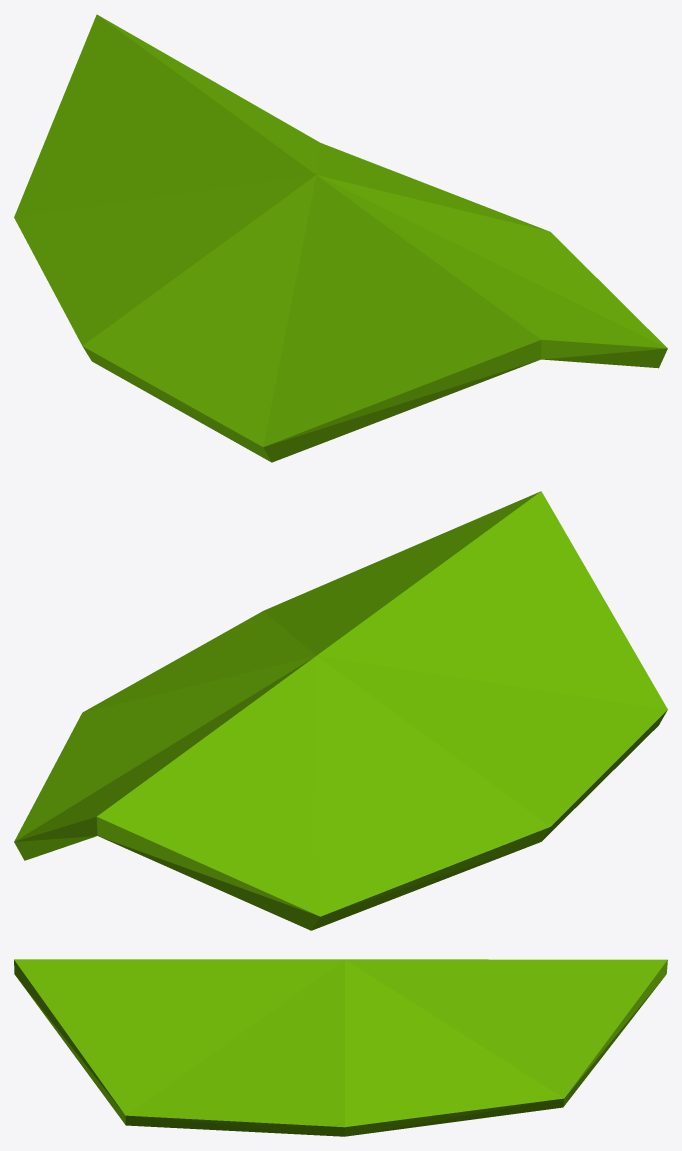
The model's file is Leaf_1.fbx.
3 renders of one model, top to bottom at view 1: azimuth 30°, elevation 25°; view 2: azimuth 150°, elevation 25°; view 3: azimuth 270°, elevation 25°, orthographic. The views are drawn at different scales.
Parts seen in each view (by area): view 1: Leaf.1; view 2: Leaf.1; view 3: Leaf.1.
Part boxes in pixels (left/top/right/bottom): Leaf.1: left=14, top=14, right=667, bottom=462; Leaf.1: left=14, top=491, right=667, bottom=930; Leaf.1: left=14, top=959, right=667, bottom=1136.
Size of the model in its own units: 12.26 by 3.29 by 20.17.
